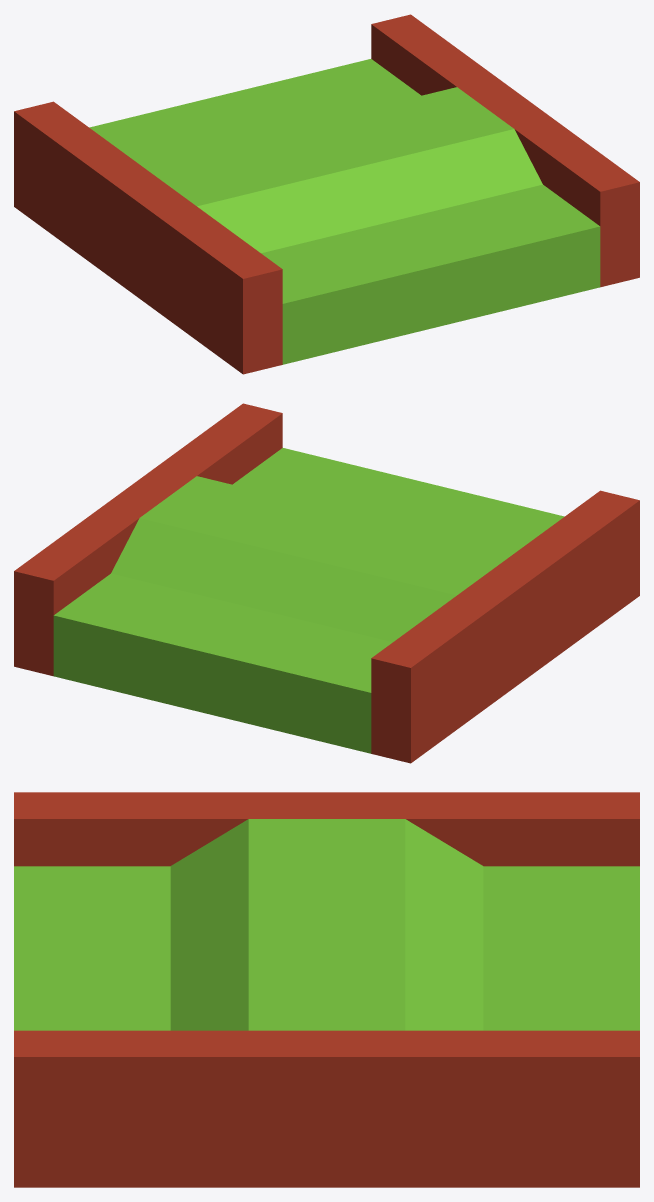
The model's file is Hill_Square.FBX.
3 renders of one model, top to bottom at view 1: azimuth 30°, elevation 25°; view 2: azimuth 150°, elevation 25°; view 3: azimuth 270°, elevation 25°, orthographic. The views are drawn at different scales.
Parts seen in each view (by area): view 1: Hill_square_01, Walls; view 2: Hill_square_01, Walls; view 3: Walls, Hill_square_01.
Boxes of the visible parts, x1,y1,x2,y2 form: Hill_square_01: [89, 59, 600, 364]; Walls: [14, 14, 639, 374]; Hill_square_01: [53, 448, 564, 753]; Walls: [14, 403, 639, 763]; Walls: [14, 792, 639, 1187]; Hill_square_01: [14, 819, 639, 1030].
Size of the model in its own units: 0.9999 by 0.9999 by 0.23.
